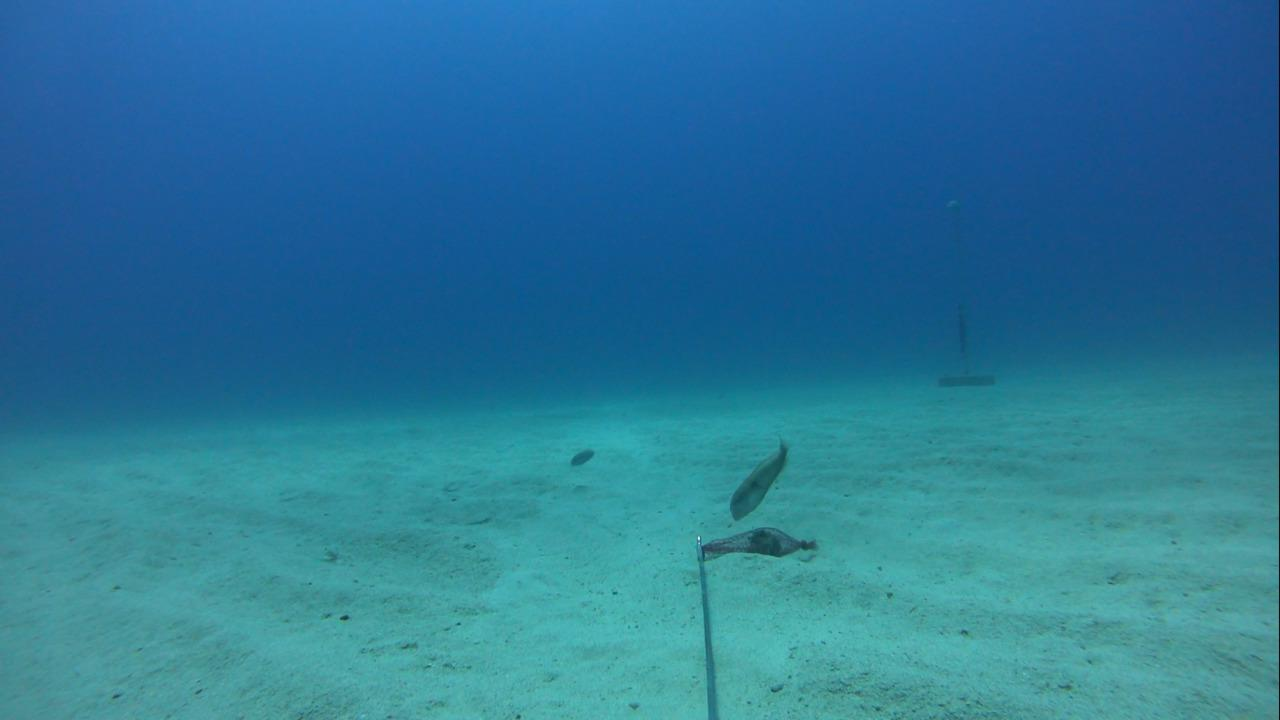raor: (725, 425, 806, 523)
